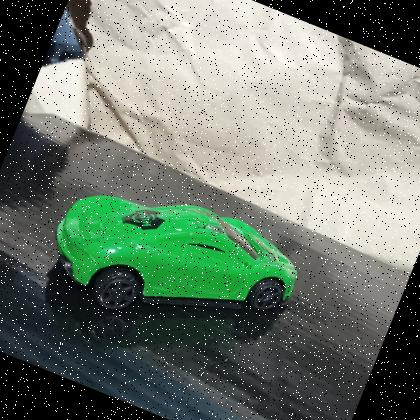Car: (26, 150, 318, 376)
